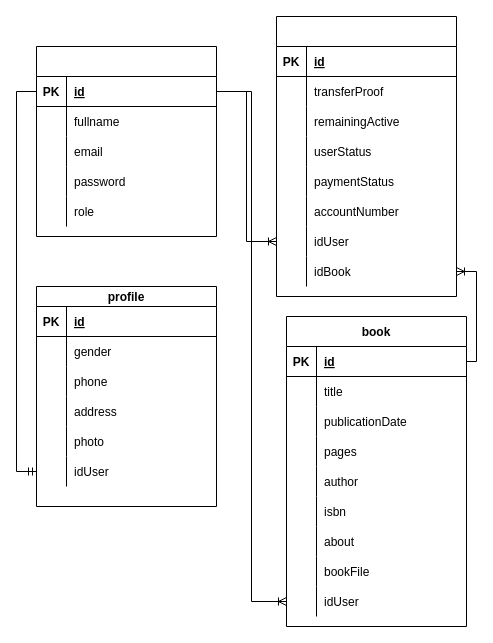
This 493x643 diagram has some shape labels left out. Here are the shapes that lost their labels. From the top down, the box of each, then its label:
(36, 46, 216, 236): user
(276, 16, 456, 296): transaction
